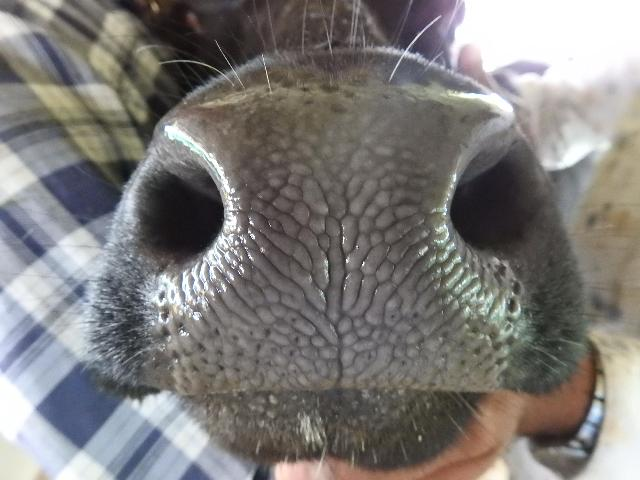Muzzle: (203, 114, 462, 388)
